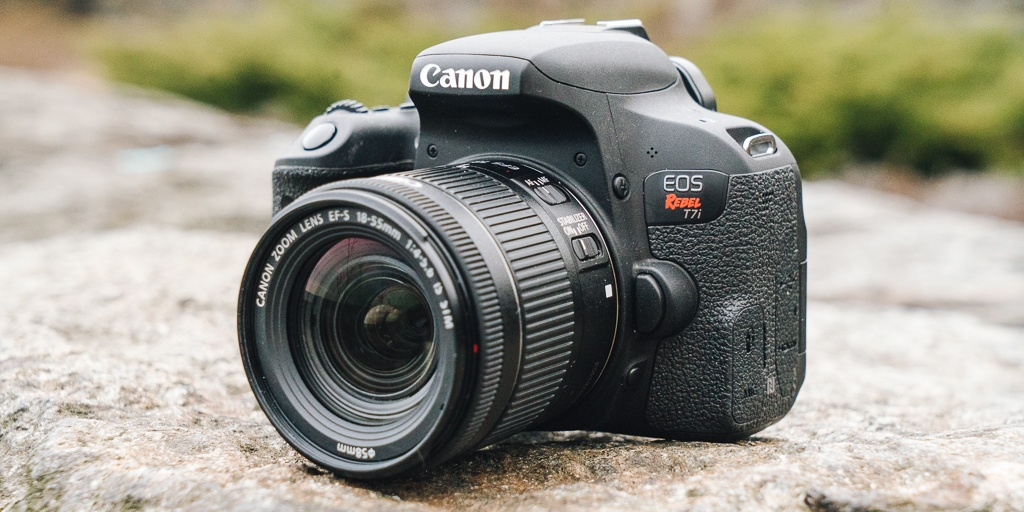kamera: (221, 17, 824, 496)
